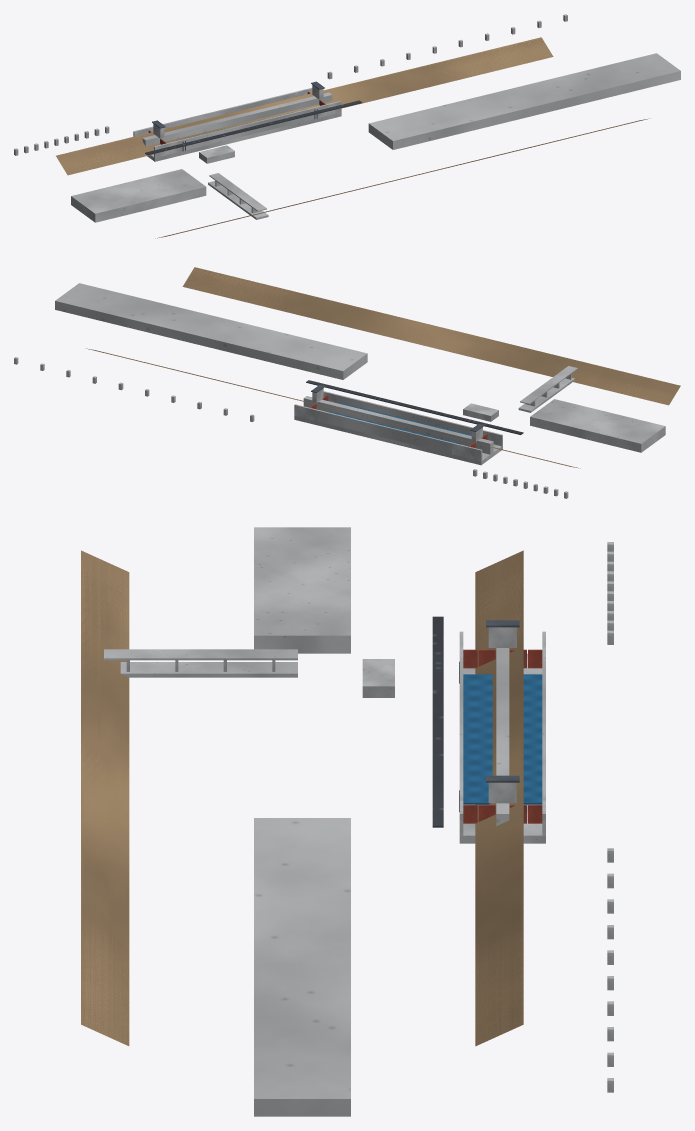
File: qingnian-low.glb
3 views of the same model, one above another, from view 1: azimuth 30°, elevation 25°; view 2: azimuth 150°, elevation 25°; view 3: azimuth 270°, elevation 25° (orthographic). The views are drawn at different scales.
Parts seen in each view (by area): view 1: QIN_WAY_apron_dn_01, QIN_TERRAIN_slope_L_01, QIN_WAY_apron_up_01, QIN_LOCK_middike_01, QIN_LOCK_wallR_chamber_01, QIN_SITE_road_01, QIN_LOCK_wallL_chamber_01, QIN_TERRAIN_slope_R_01, QIN_LOCK_slab_chamber_01, QIN_SLUICE_bridge_01, QIN_SLUICE_slab_01, QIN_SITE_admin_01; view 2: QIN_TERRAIN_slope_R_01, QIN_WAY_apron_dn_01, QIN_WAY_apron_up_01, QIN_LOCK_middike_01, QIN_LOCK_wallL_chamber_01, QIN_LOCK_wallR_chamber_01, QIN_SITE_road_01, QIN_TERRAIN_slope_L_01, QIN_LOCK_slab_chamber_01, QIN_SLUICE_bridge_01, QIN_SITE_admin_01, %s_LOCK_water_chamber_01 (+2 smaller); view 3: QIN_WAY_apron_dn_01, QIN_TERRAIN_slope_R_01, QIN_TERRAIN_slope_L_01, QIN_WAY_apron_up_01, %s_LOCK_water_chamber_01, QIN_SLUICE_slab_01, QIN_SITE_road_01, QIN_SLUICE_bridge_01, QIN_LOCK_middike_01, QIN_SITE_admin_01.
Part boxes in pixels (left/top/right/bottom): QIN_WAY_apron_dn_01: left=368, top=53, right=680, bottom=149; QIN_TERRAIN_slope_L_01: left=56, top=37, right=553, bottom=175; QIN_WAY_apron_up_01: left=71, top=169, right=206, bottom=222; QIN_LOCK_middike_01: left=142, top=92, right=332, bottom=146; QIN_LOCK_wallR_chamber_01: left=183, top=107, right=315, bottom=150; QIN_SITE_road_01: left=145, top=100, right=362, bottom=155; QIN_LOCK_wallL_chamber_01: left=163, top=92, right=295, bottom=128; QIN_TERRAIN_slope_R_01: left=155, top=118, right=650, bottom=238; QIN_LOCK_slab_chamber_01: left=184, top=118, right=315, bottom=154; QIN_SLUICE_bridge_01: left=209, top=173, right=266, bottom=211; QIN_SLUICE_slab_01: left=208, top=181, right=268, bottom=219; QIN_SITE_admin_01: left=199, top=145, right=234, bottom=163; QIN_TERRAIN_slope_R_01: left=182, top=267, right=680, bottom=405; QIN_WAY_apron_dn_01: left=55, top=283, right=367, bottom=379; QIN_WAY_apron_up_01: left=530, top=399, right=665, bottom=452; QIN_LOCK_middike_01: left=303, top=396, right=493, bottom=454; QIN_LOCK_wallL_chamber_01: left=320, top=410, right=452, bottom=454; QIN_LOCK_wallR_chamber_01: left=340, top=395, right=472, bottom=434; QIN_SITE_road_01: left=306, top=380, right=523, bottom=434; QIN_TERRAIN_slope_L_01: left=85, top=348, right=580, bottom=468; QIN_LOCK_slab_chamber_01: left=320, top=422, right=451, bottom=457; QIN_SLUICE_bridge_01: left=520, top=366, right=577, bottom=404; QIN_SITE_admin_01: left=463, top=403, right=498, bottom=421; %s_LOCK_water_chamber_01: left=328, top=403, right=471, bottom=444; QIN_WAY_apron_dn_01: left=254, top=818, right=350, bottom=1116; QIN_TERRAIN_slope_R_01: left=81, top=550, right=129, bottom=1045; QIN_TERRAIN_slope_L_01: left=475, top=550, right=523, bottom=1046; QIN_WAY_apron_up_01: left=254, top=527, right=350, bottom=653; %s_LOCK_water_chamber_01: left=463, top=674, right=542, bottom=804; QIN_SLUICE_slab_01: left=120, top=662, right=297, bottom=677; QIN_SITE_road_01: left=432, top=616, right=443, bottom=827; QIN_SLUICE_bridge_01: left=104, top=649, right=297, bottom=660; QIN_LOCK_middike_01: left=496, top=648, right=509, bottom=825; QIN_SITE_admin_01: left=362, top=659, right=394, bottom=697.
Size of the model in its own units: 1255 by 53.92 by 494.
6 materials, 6 textured.
